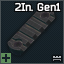MPX GEN1 handguard 2 inch rail: (0, 0, 64, 64)
